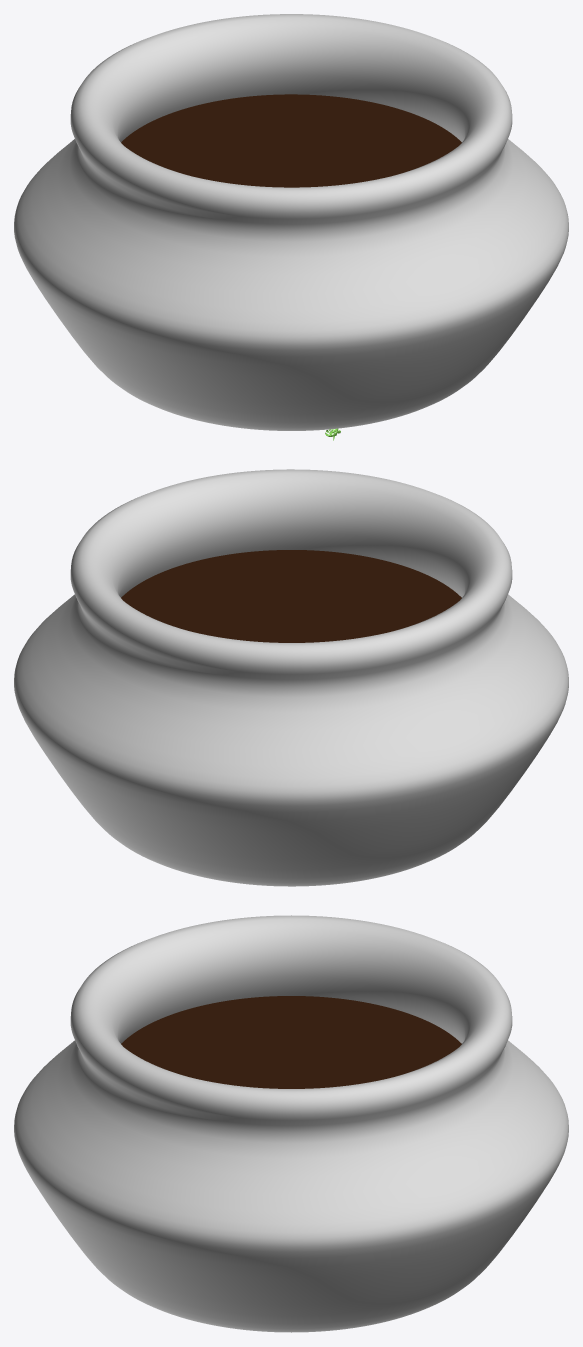
The model's file is 046-growth.fbx.
3 renders of one model, top to bottom at view 1: azimuth 30°, elevation 25°; view 2: azimuth 150°, elevation 25°; view 3: azimuth 270°, elevation 25°, orthographic.
Visible parts, largest first — view 1: Circle, Circle.001; view 2: Circle, Circle.001; view 3: Circle, Circle.001.
Part boxes in pixels (x1,y1,x2,y2): Circle: [14, 14, 568, 430]; Circle.001: [121, 94, 461, 187]; Circle: [14, 469, 568, 886]; Circle.001: [121, 550, 461, 642]; Circle: [14, 915, 568, 1332]; Circle.001: [121, 996, 461, 1088].
Size of what is drawn, in the model's own units: 283 by 175 by 283.
